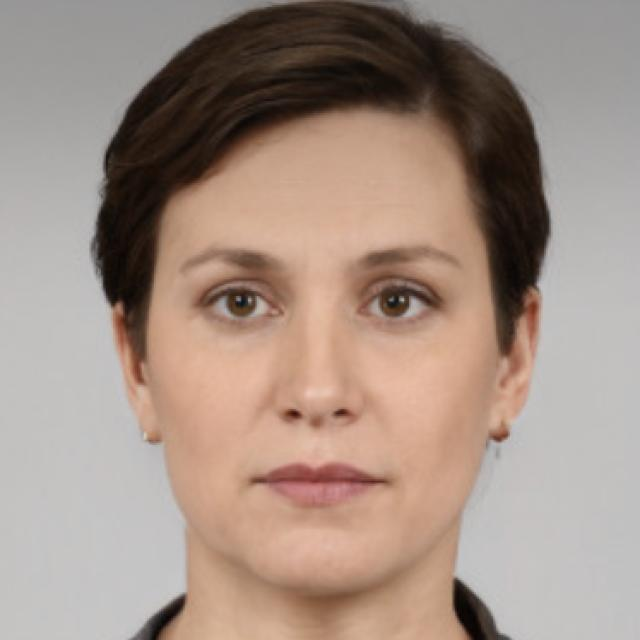natural: (98, 31, 539, 571)
